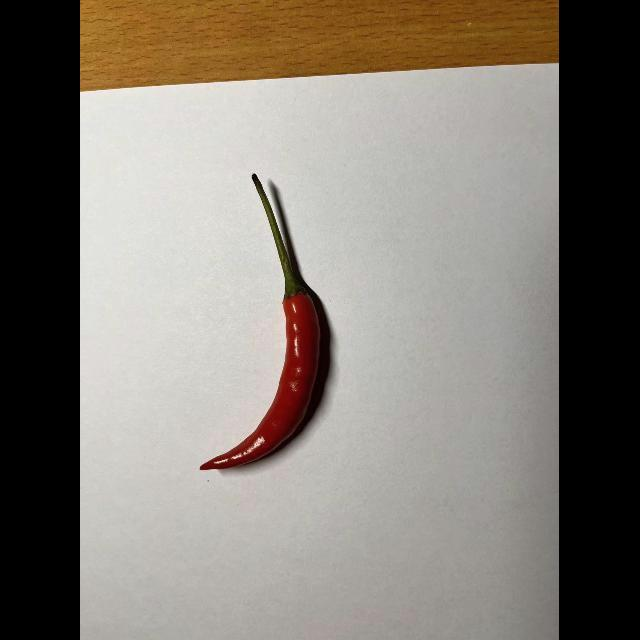chili_pepper: (191, 167, 334, 479)
